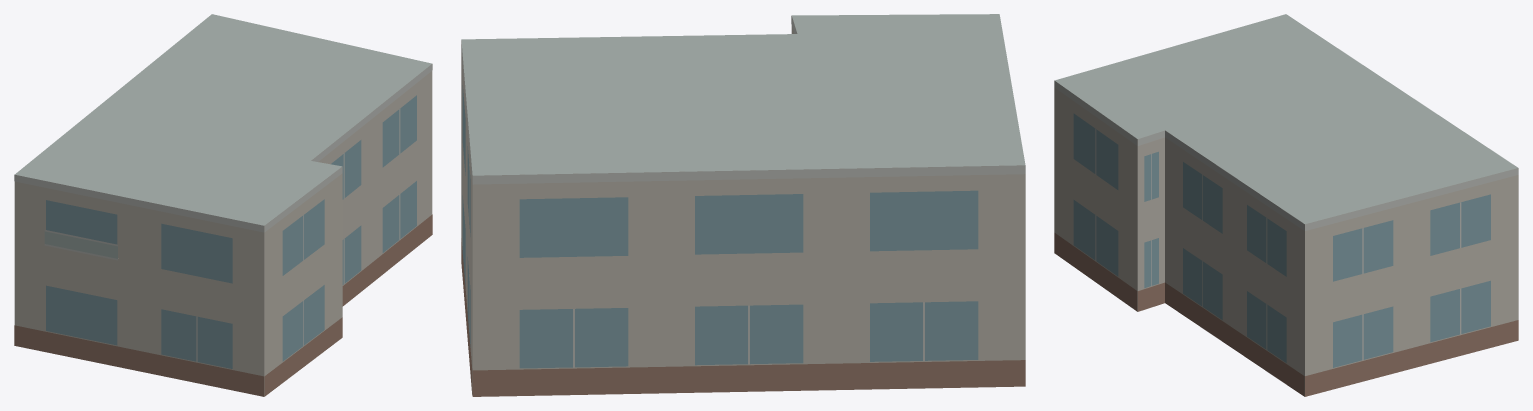
The model's file is survey-upis-32913438.glb.
3 renders of one model, left to right at view 1: azimuth 30°, elevation 25°; view 2: azimuth 150°, elevation 25°; view 3: azimuth 270°, elevation 25°, orthographic. The views are drawn at different scales.
Parts seen in each view (by area): view 1: survey-upis-32913438.tmp; view 2: survey-upis-32913438.tmp; view 3: survey-upis-32913438.tmp.
Boxes of the visible parts, x1,y1,x2,y2 form: survey-upis-32913438.tmp: [14, 14, 432, 396]; survey-upis-32913438.tmp: [461, 14, 1025, 396]; survey-upis-32913438.tmp: [1054, 14, 1518, 396].
Size of the model in its own units: 15.95 by 6.1 by 14.88.
